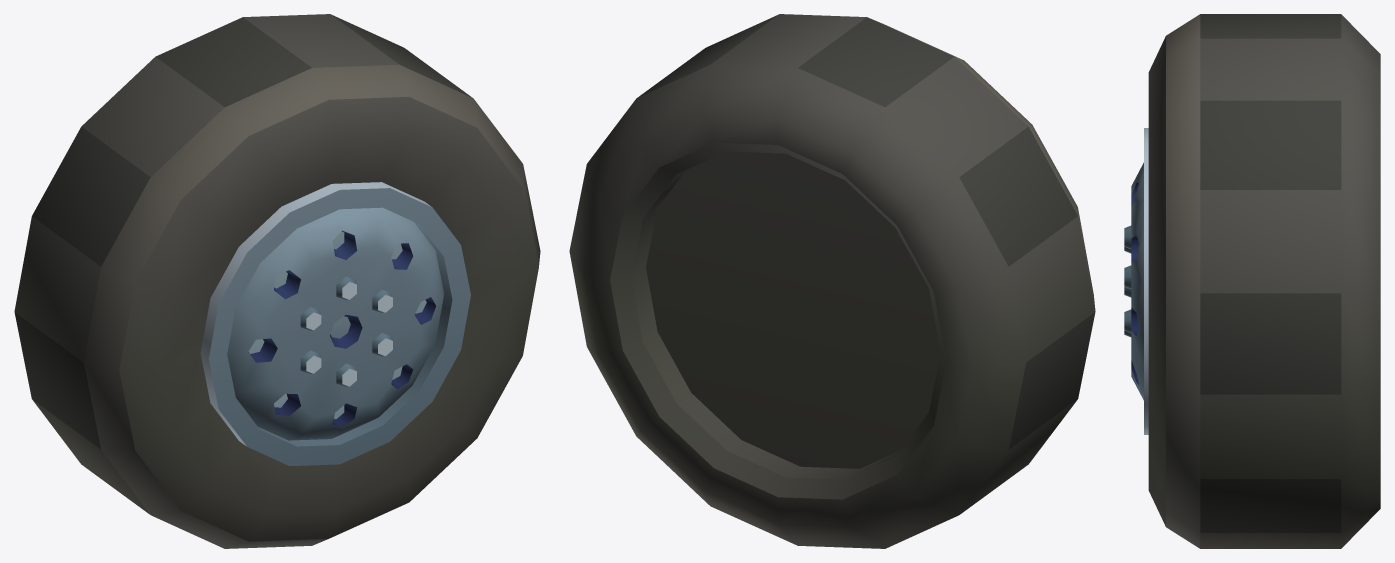
File: wheel_01.fbx
3 renders of one model, left to right at view 1: azimuth 30°, elevation 25°; view 2: azimuth 150°, elevation 25°; view 3: azimuth 270°, elevation 25°, orthographic.
Visible parts, largest first — view 1: wheel_01; view 2: wheel_01; view 3: wheel_01.
Boxes of the visible parts, x1=… form: wheel_01: x1=14, y1=14, x2=540, y2=548; wheel_01: x1=569, y1=14, x2=1095, y2=548; wheel_01: x1=1124, y1=14, x2=1380, y2=548.
Size of the model in its own units: 106 by 106 by 50.9.
